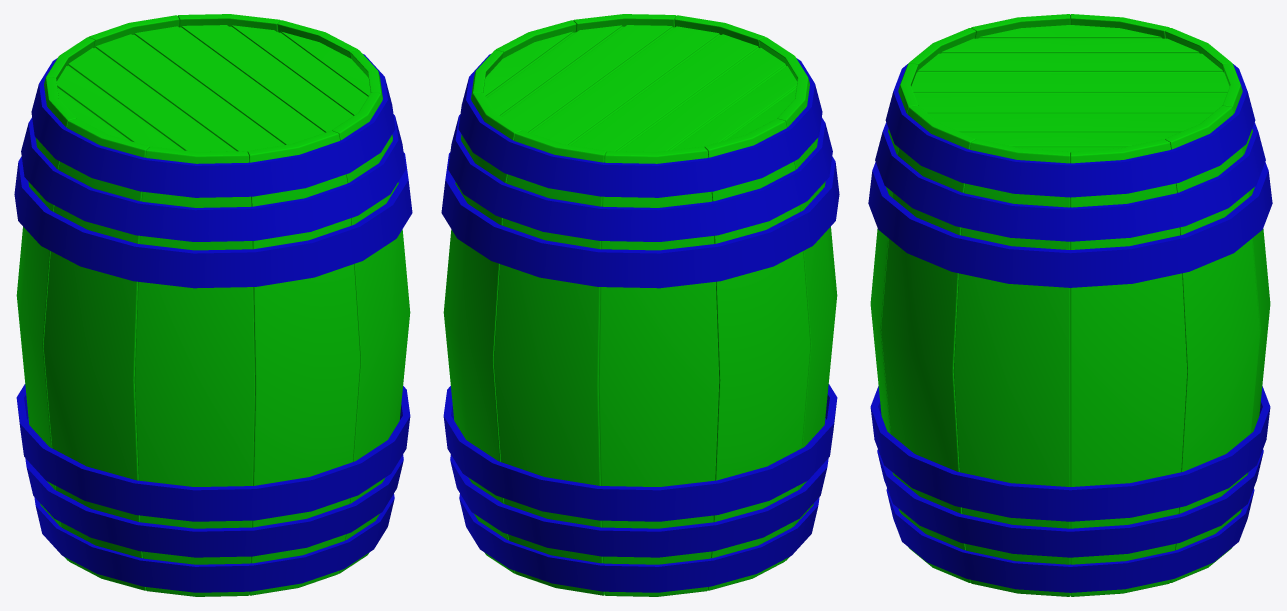
The model's file is Barrel.fbx.
3 views of the same model, side by side, from view 1: azimuth 30°, elevation 25°; view 2: azimuth 150°, elevation 25°; view 3: azimuth 270°, elevation 25° (orthographic).
Visible parts, largest first — view 1: Barrel_GroupDupe_BarrelTop; view 2: Barrel_GroupDupe_BarrelTop; view 3: Barrel_GroupDupe_BarrelTop.
Part boxes in pixels (left/top/right/bottom): Barrel_GroupDupe_BarrelTop: left=14, top=14, right=412, bottom=596; Barrel_GroupDupe_BarrelTop: left=441, top=14, right=839, bottom=596; Barrel_GroupDupe_BarrelTop: left=868, top=14, right=1272, bottom=596.
Size of the model in its own units: 8.31 by 10.15 by 8.41.
